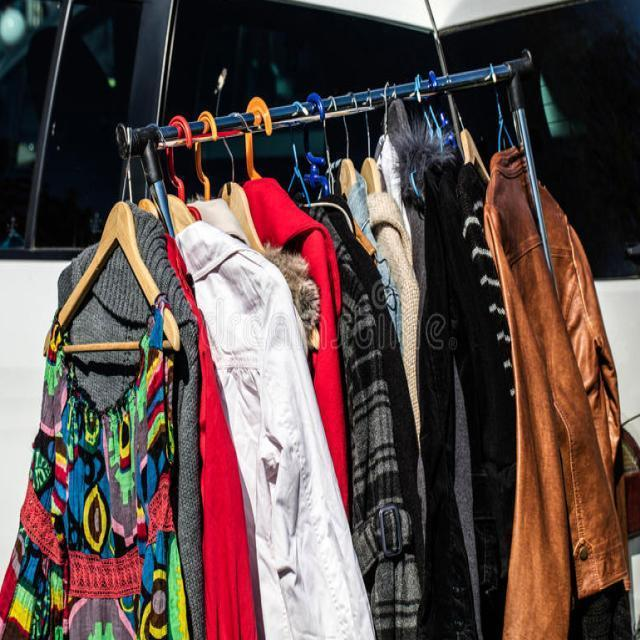clothes: (238, 168, 426, 640), (93, 235, 312, 640), (493, 145, 631, 640), (413, 157, 539, 640), (23, 337, 167, 640)
